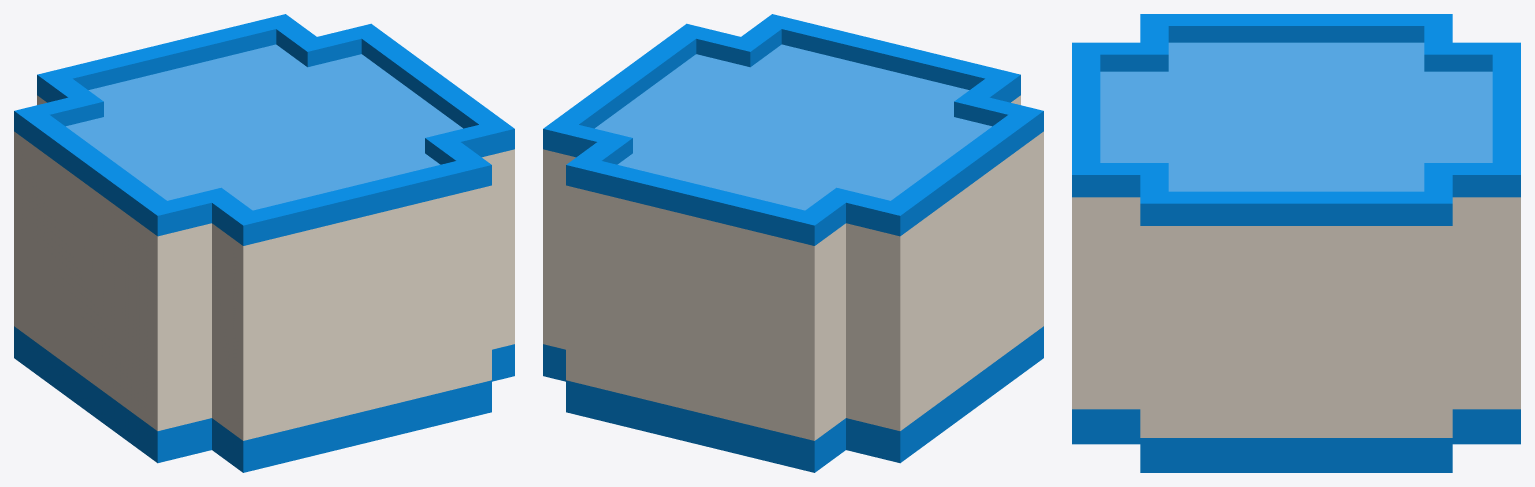
File: Map-House-O-Lv1-B.fbx
The picture shows the model from 3 angles, left to right: view 1: azimuth 30°, elevation 25°; view 2: azimuth 150°, elevation 25°; view 3: azimuth 270°, elevation 25°; orthographic projection. The views are drawn at different scales.
Parts seen in each view (by area): view 1: Map-House-O-Lv1-B; view 2: Map-House-O-Lv1-B; view 3: Map-House-O-Lv1-B.
Boxes of the visible parts, box(x1,y1,x2,y2) form: Map-House-O-Lv1-B: box(14, 14, 514, 472); Map-House-O-Lv1-B: box(543, 14, 1043, 472); Map-House-O-Lv1-B: box(1072, 14, 1520, 472).
Size of the model in its own units: 1 by 0.6618 by 1.
